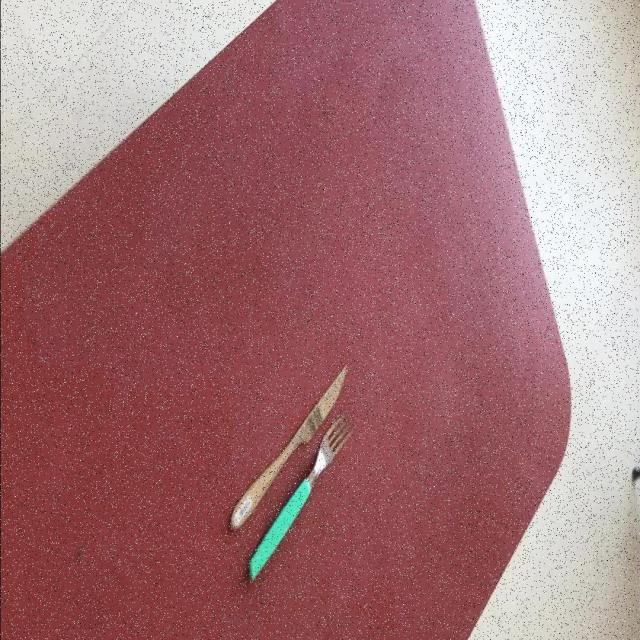Fork: (247, 410, 354, 582)
Knife: (229, 364, 350, 533)
